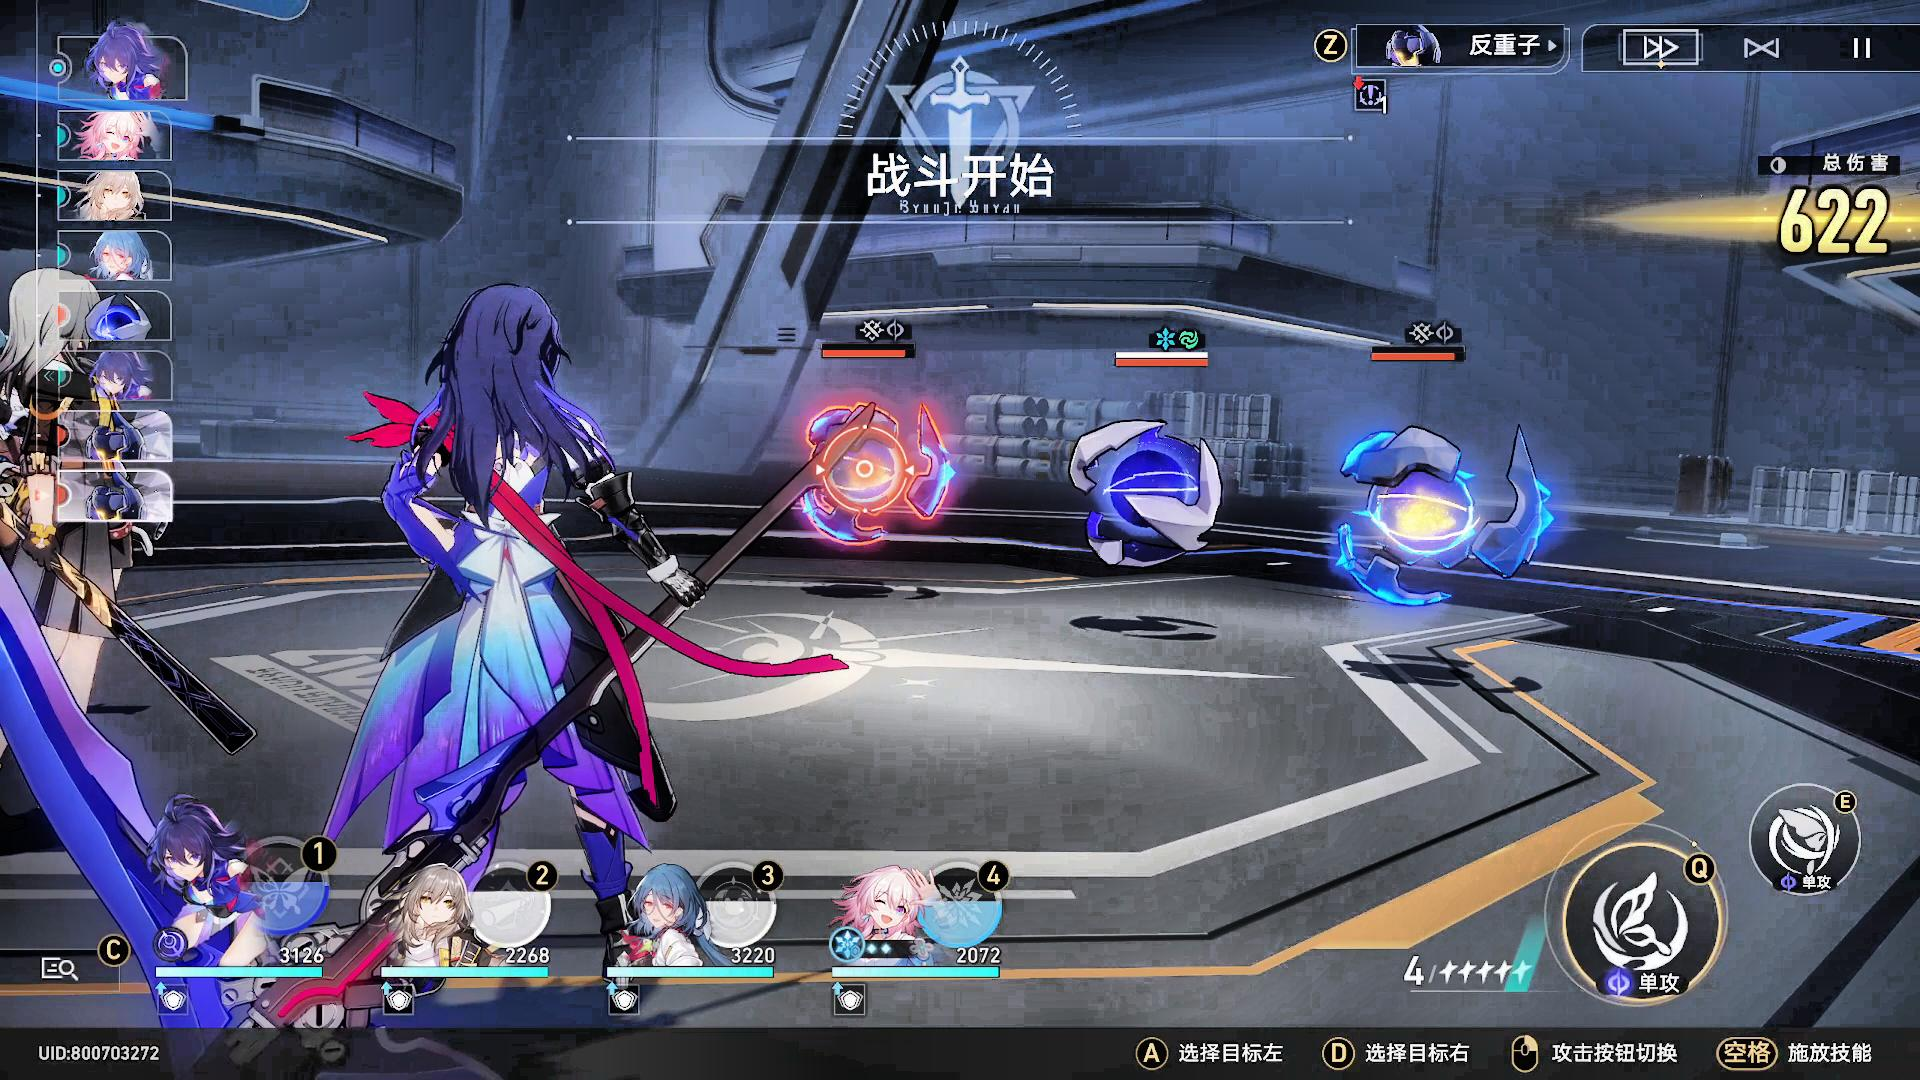Enemy: (1313, 397, 1553, 625), (767, 373, 968, 574), (1034, 406, 1236, 585)
Self: (309, 240, 671, 1015)
